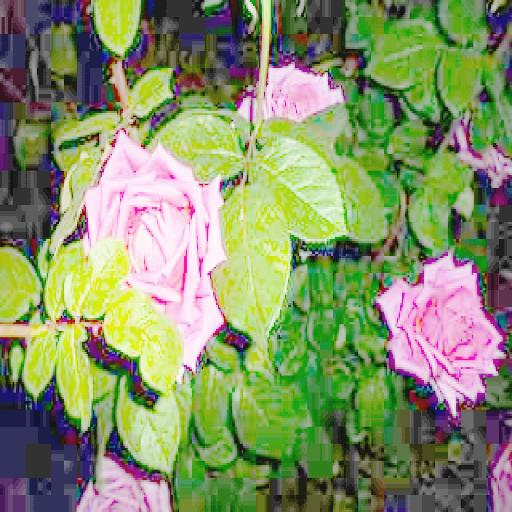rose: (83, 132, 224, 367), (374, 252, 500, 410)
